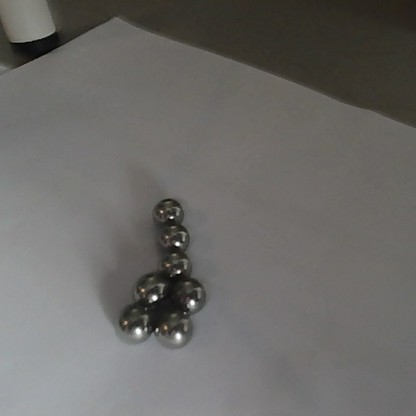ironball: (111, 304, 154, 345), (164, 276, 208, 315), (153, 309, 193, 351), (130, 273, 170, 305), (150, 194, 185, 224), (155, 224, 189, 254), (158, 253, 192, 283)
